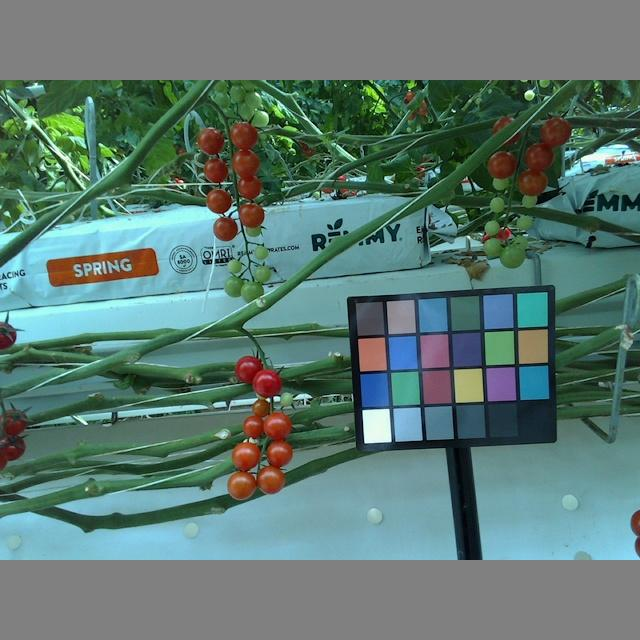green: (497, 243, 525, 269), (239, 281, 265, 305), (223, 276, 246, 299), (481, 234, 501, 258), (513, 213, 535, 233), (251, 243, 270, 262), (483, 216, 501, 235), (253, 263, 270, 282), (490, 193, 504, 215), (225, 257, 243, 274), (492, 175, 507, 191)
pink: (225, 469, 259, 502), (255, 464, 287, 496), (260, 409, 293, 440), (231, 440, 261, 470), (265, 440, 294, 469), (230, 150, 260, 178), (197, 126, 225, 154), (230, 121, 258, 149), (205, 185, 232, 213), (201, 158, 228, 183), (235, 173, 262, 198), (239, 202, 266, 226), (242, 414, 265, 440), (212, 217, 238, 240)
red: (521, 140, 556, 170), (541, 117, 572, 150), (252, 367, 283, 399), (234, 352, 263, 386), (485, 150, 516, 179), (515, 168, 546, 197), (1, 408, 28, 437), (1, 434, 27, 463), (1, 321, 20, 355)
